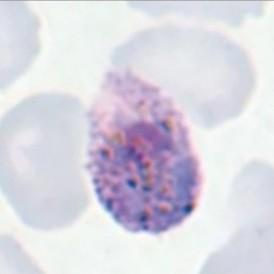Infected: (83, 70, 203, 238)
Uninfected: (108, 25, 259, 130), (0, 92, 94, 229)
